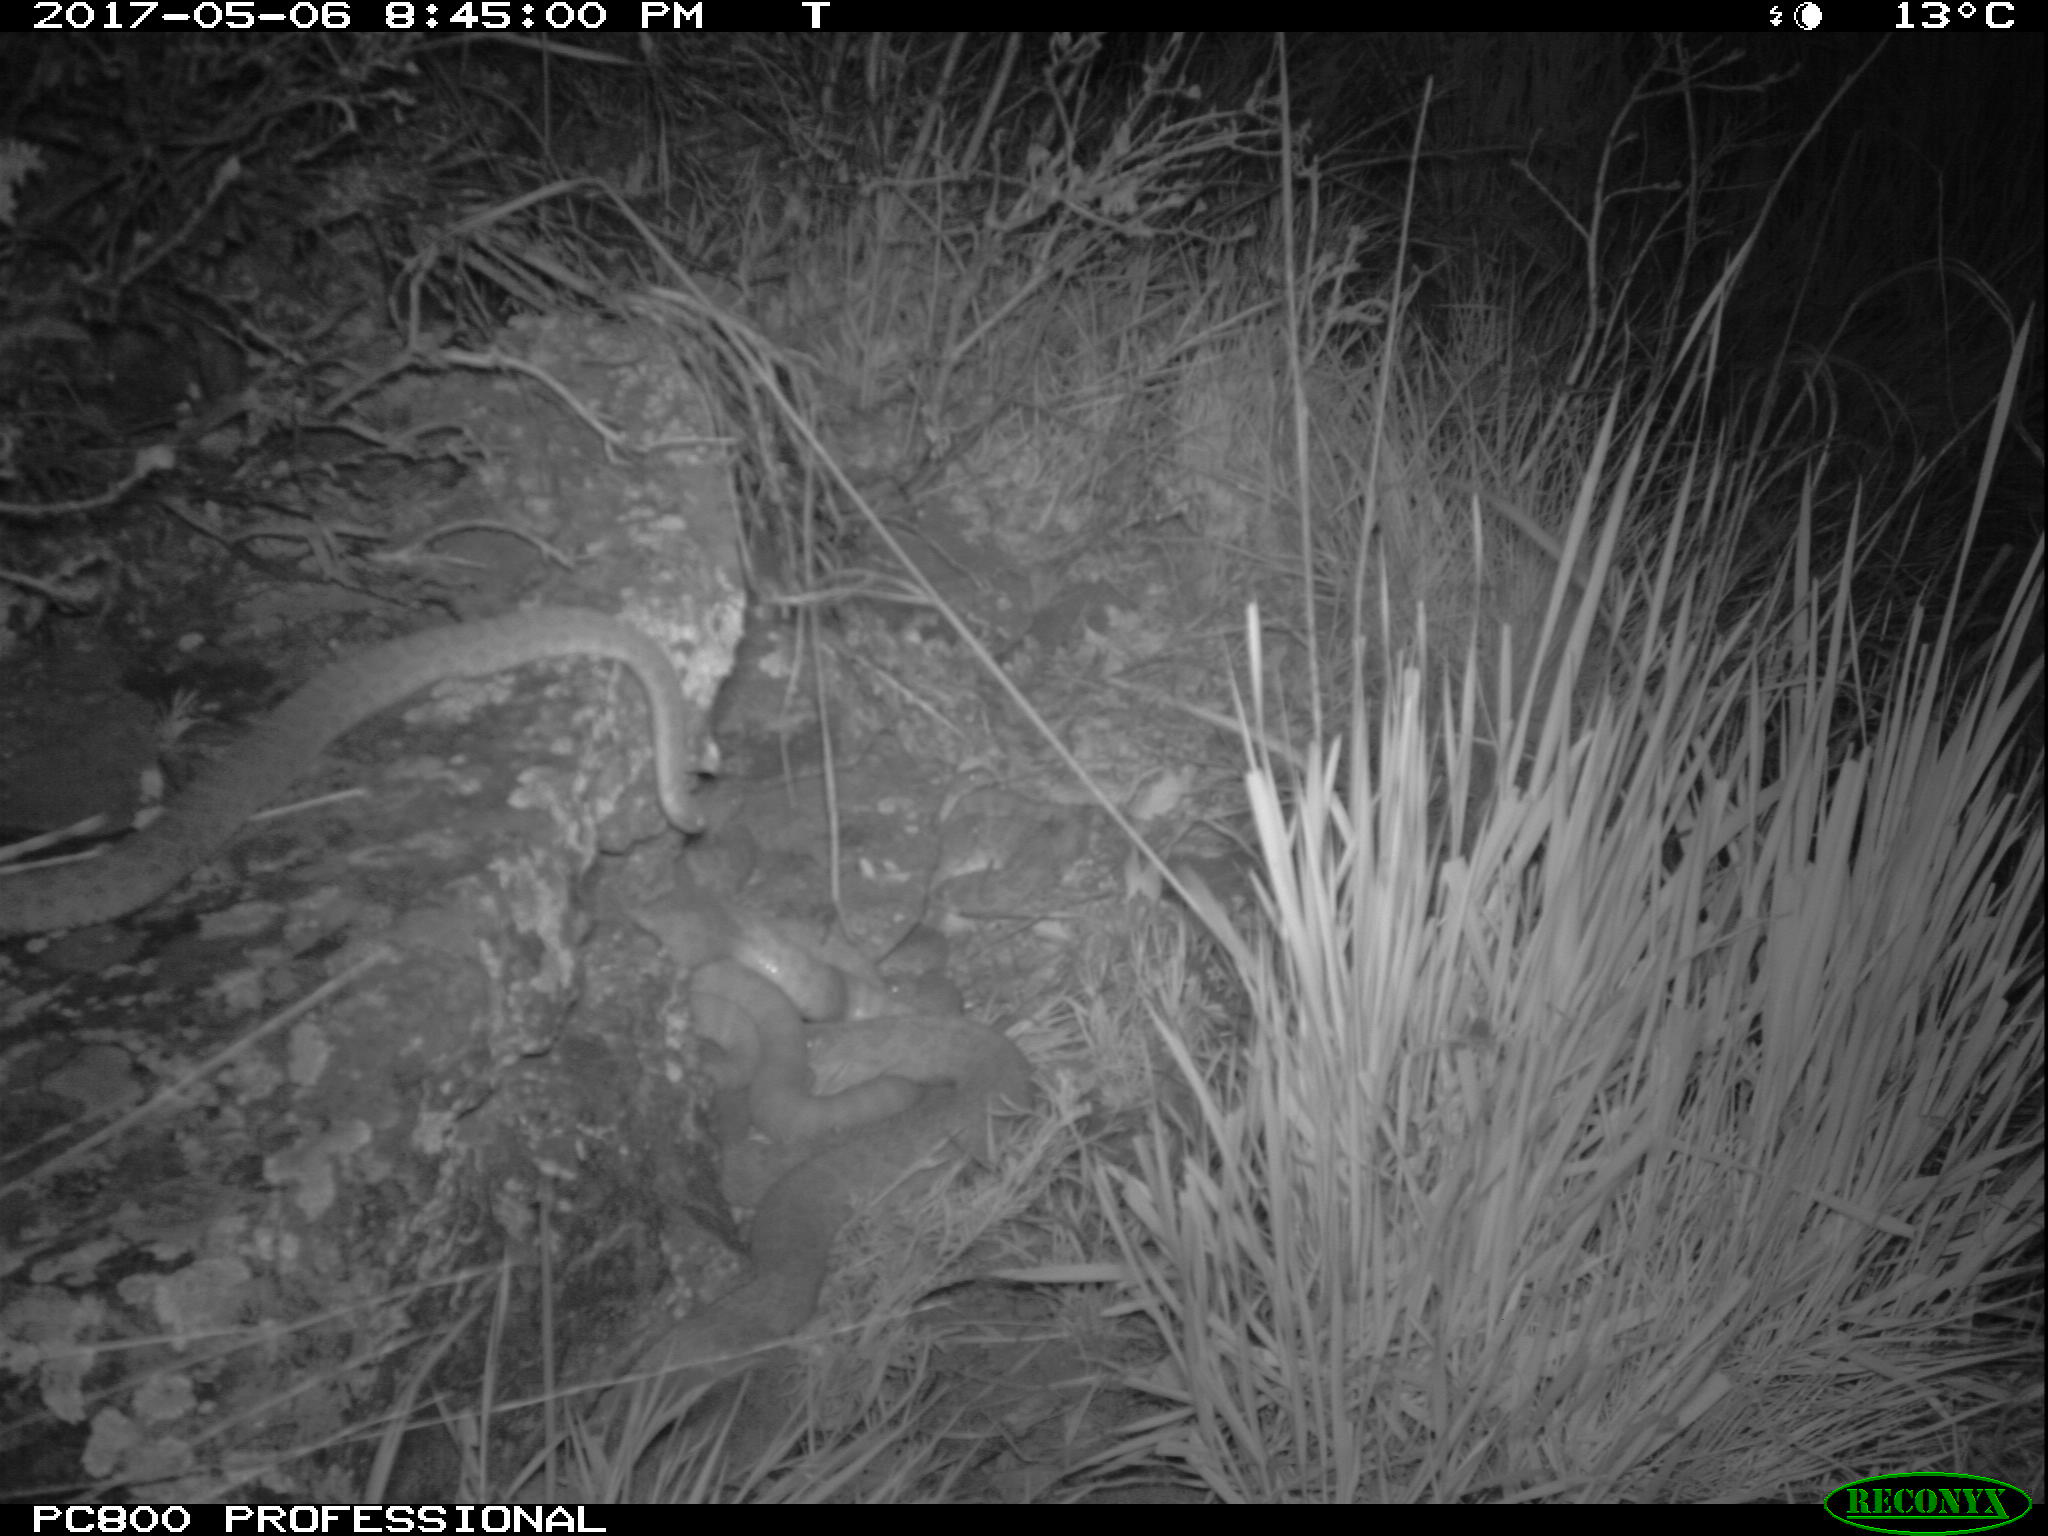snake: (2, 602, 743, 950), (590, 1181, 887, 1455), (681, 954, 1050, 1170), (739, 778, 1077, 954)
